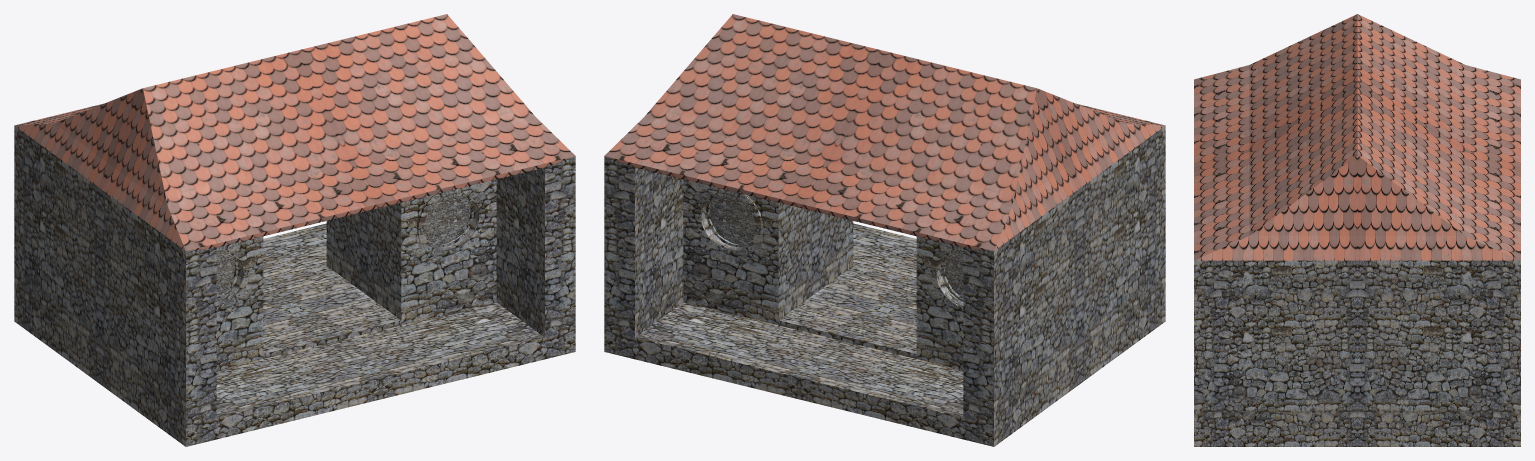
Rendered from entradatemplos.fbx.
The picture shows the model from 3 angles, left to right: view 1: azimuth 30°, elevation 25°; view 2: azimuth 150°, elevation 25°; view 3: azimuth 270°, elevation 25°; orthographic projection. The views are drawn at different scales.
Parts seen in each view (by area): view 1: CasetaCentral; view 2: CasetaCentral; view 3: CasetaCentral.
Part boxes in pixels (left/top/right/bottom): CasetaCentral: left=14, top=14, right=575, bottom=446; CasetaCentral: left=604, top=14, right=1165, bottom=446; CasetaCentral: left=1194, top=14, right=1520, bottom=446.
Size of the model in its own units: 200 by 140 by 153.
2 materials, 2 textured.
